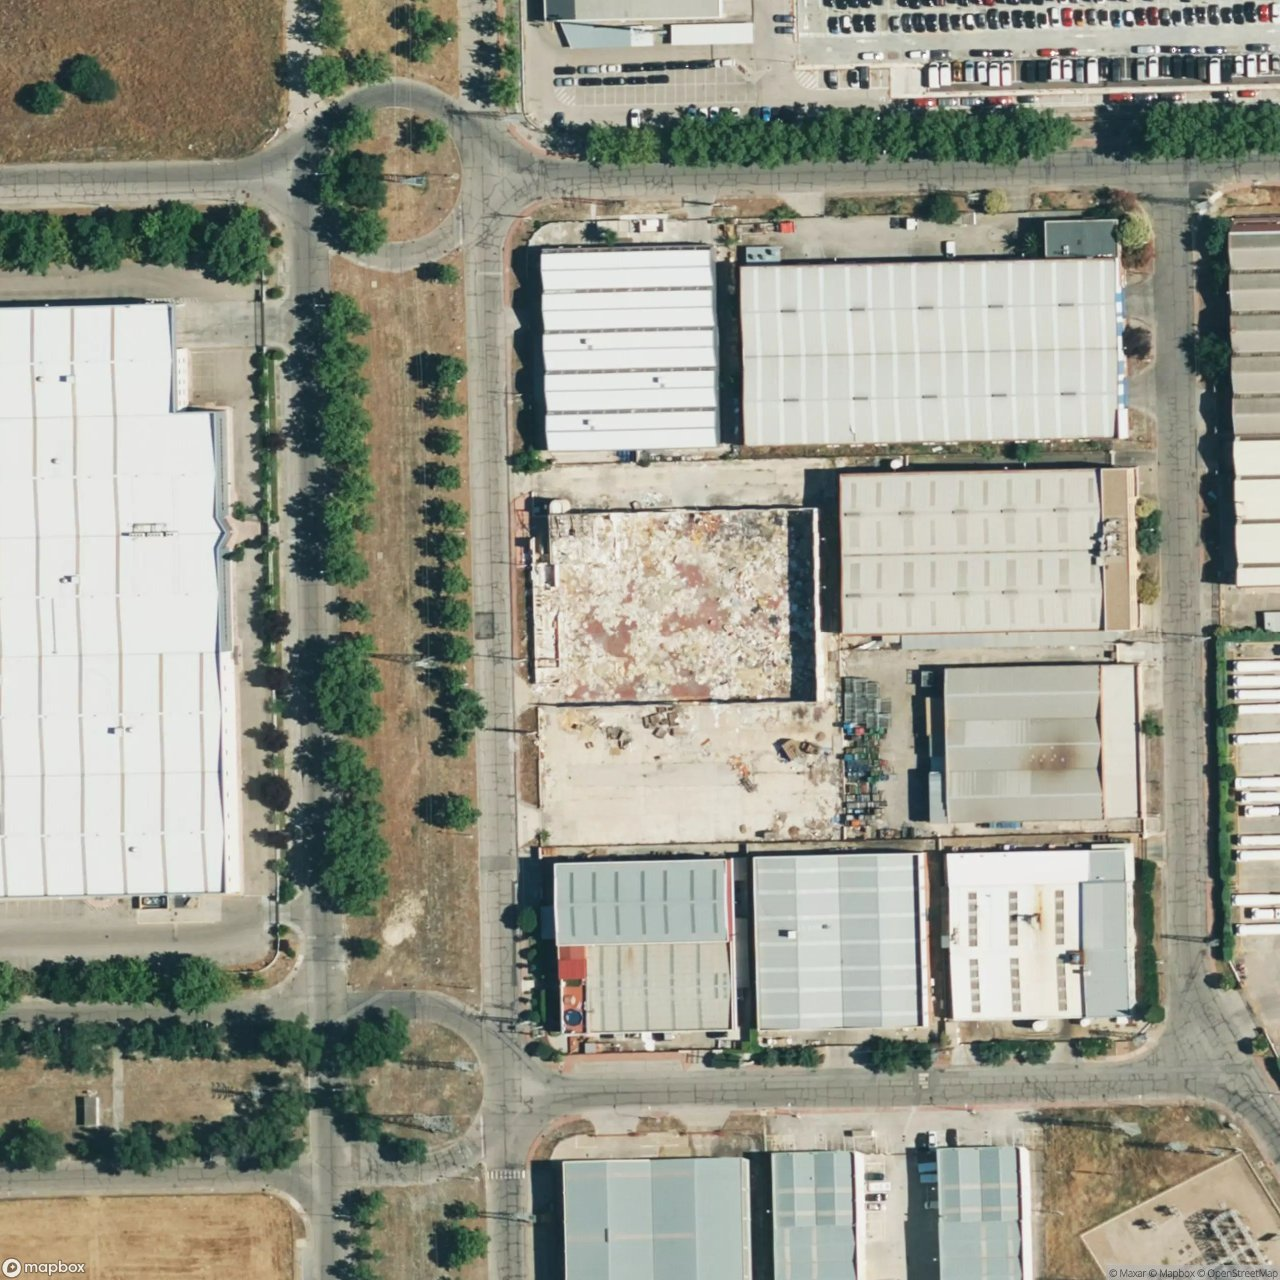dump_site: (554, 510, 789, 704)
